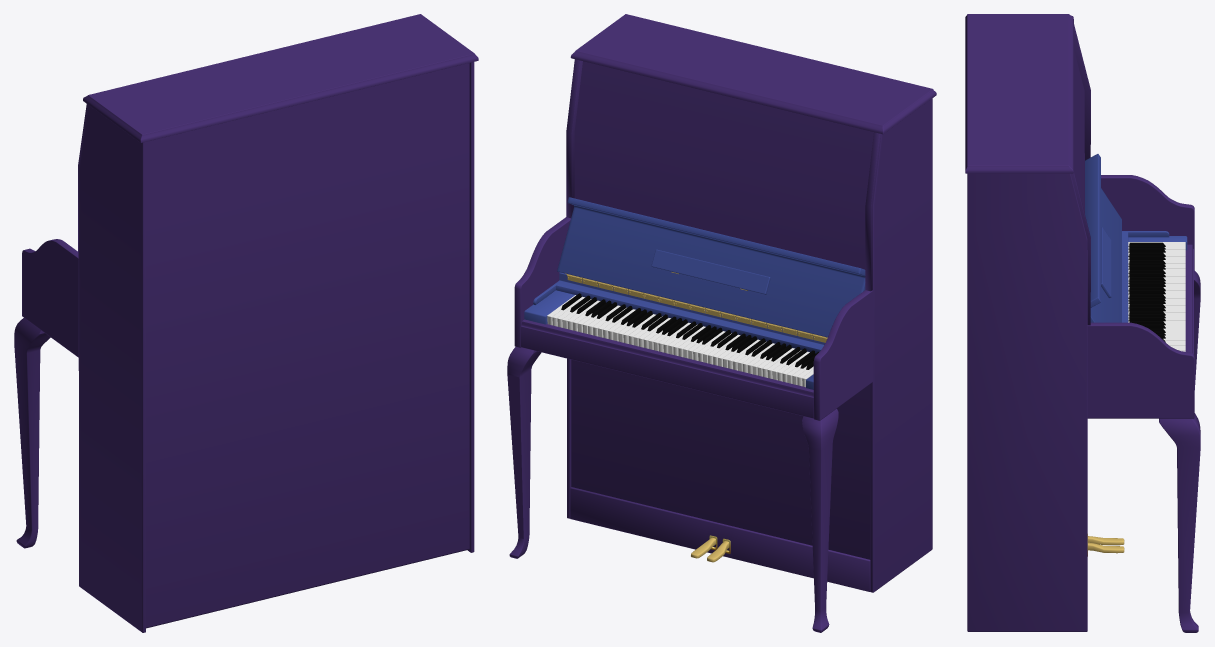
Rendered from piano.obj.
3 renders of one model, left to right at view 1: azimuth 30°, elevation 25°; view 2: azimuth 150°, elevation 25°; view 3: azimuth 270°, elevation 25°, orthographic. The views are drawn at different scales.
Parts seen in each view (by area): view 1: piano:Mesh; view 2: piano:Mesh; view 3: piano:Mesh.
Boxes of the visible parts, x1=… form: piano:Mesh: x1=14, y1=14, x2=478, y2=632; piano:Mesh: x1=507, y1=14, x2=936, y2=632; piano:Mesh: x1=965, y1=14, x2=1200, y2=632.
Bounding box in the file's own units: 111 × 155 × 71.13.
6 materials, 5 textured.
